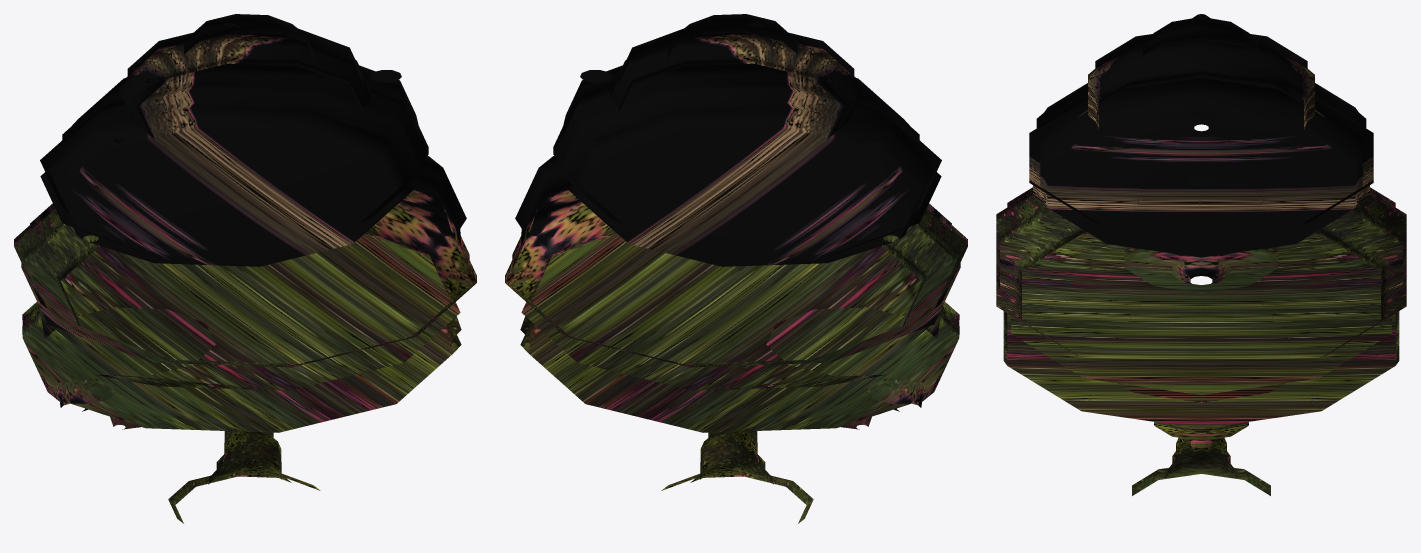
File: pine.glb
3 renders of one model, left to right at view 1: azimuth 30°, elevation 25°; view 2: azimuth 150°, elevation 25°; view 3: azimuth 270°, elevation 25°, orthographic. The views are drawn at different scales.
Visible parts, largest first — view 1: solid; view 2: solid; view 3: solid.
Boxes of the visible parts, <box> form: solid: <box>14,14,476,523</box>; solid: <box>505,14,967,523</box>; solid: <box>996,14,1406,495</box>.
Bounding box in the file's own units: 0.8769 × 1 × 0.7784.
Materials: 1 (1 with a texture image).
